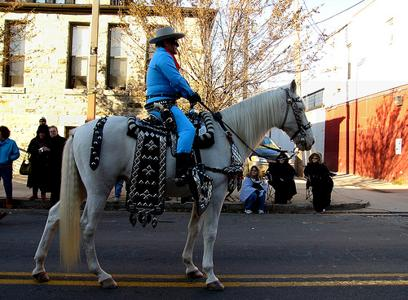person: (142, 24, 203, 188)
